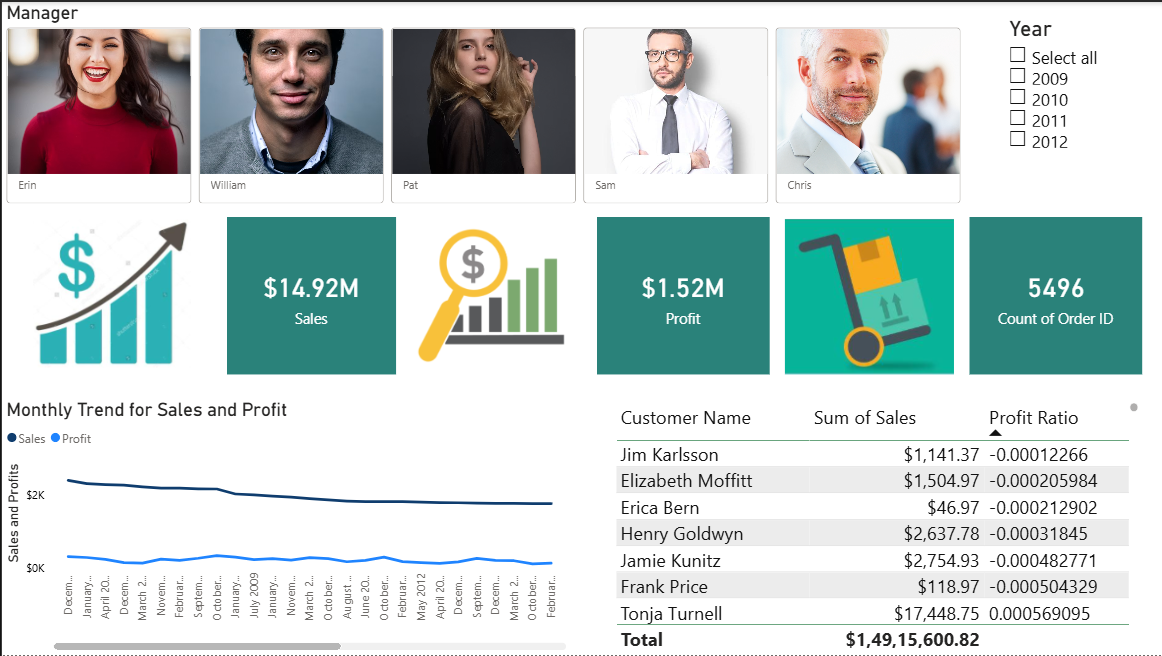

What the dashboard file says about the page in this screenshot:
{"tool":"powerbi","page":{"name":"Manager Sales Snapshot","canvas":[1280,720],"ordinal":0},"visuals":[{"type":"card","fields":{"Values":["Count(Orders.Order ID)"]},"box":[1066.7,237,190.2,173.6],"z":0},{"type":"advancedSlicerVisual","title":"Manager","fields":{"Values":["Images.Images"],"Label":["Min(Images.Manager)"]},"box":[0,0,1062.5,227.4],"z":1000},{"type":"listSlicer","fields":{"Values":["Orders.Year"]},"box":[1105.3,15.2,151.6,221.9],"z":2000},{"type":"card","fields":{"Values":["Sum(Orders.Profit)"]},"box":[656,237,190.2,173.6],"z":3000},{"type":"card","fields":{"Values":["Sum(Orders.Sales)"]},"box":[248.1,237,186,173.6],"z":4000},{"type":"lineChart","title":"Monthly Trend for Sales and Profit","fields":{"Y":["Avg(Orders.Sales)","Avg(Orders.Profit)"],"Category":["Orders.Month Year"]},"box":[0,436.9,627,282.5],"z":5000},{"type":"tableEx","fields":{"Values":["Orders.Customer Name","Sum(Orders.Sales)","Orders.Profit Ratio"]},"box":[670.5,436.3,586.3,283],"z":6000},{"type":"image","box":[15.2,237,220.5,173.6],"z":7000},{"type":"image","box":[446.5,237,192.9,173.6],"z":8000},{"type":"image","box":[860,237,192.9,173.6],"z":9000}]}

Visuals, with their boxes in screenshot pixels (x1, y1, x2, y2), scaled from the page's 1280x720 canvas onto the 1162x656 screenshot:
card - Count(Orders.Order ID): Rect(968, 216, 1141, 374)
"Manager" advancedSlicerVisual: Rect(0, 0, 965, 207)
listSlicer - Orders.Year: Rect(1003, 14, 1141, 216)
card - Sum(Orders.Profit): Rect(596, 216, 768, 374)
card - Sum(Orders.Sales): Rect(225, 216, 394, 374)
"Monthly Trend for Sales and Profit" lineChart: Rect(0, 398, 569, 655)
tableEx - Orders.Customer Name x Sum(Orders.Sales): Rect(609, 398, 1141, 655)
image: Rect(14, 216, 214, 374)
image: Rect(405, 216, 580, 374)
image: Rect(781, 216, 956, 374)
